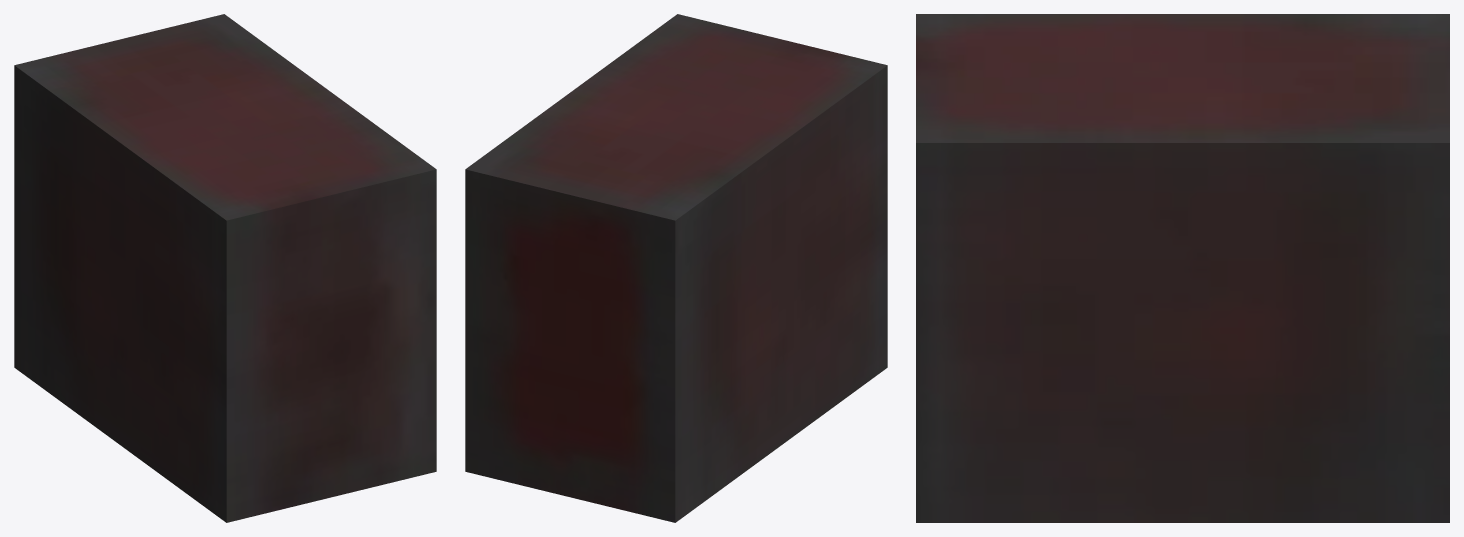
Rendered from link4__tongue.glb.
The picture shows the model from 3 angles, left to right: view 1: azimuth 30°, elevation 25°; view 2: azimuth 150°, elevation 25°; view 3: azimuth 270°, elevation 25°; orthographic projection. The views are drawn at different scales.
Visible parts, largest first — view 1: world; view 2: world; view 3: world.
Part boxes in pixels (bbox=[...]): world: bbox=[14, 14, 436, 522]; world: bbox=[465, 14, 887, 522]; world: bbox=[916, 14, 1449, 522].
Bounding box in the file's own units: 0.008 × 0.011 × 0.014.
1 material, 1 textured.
